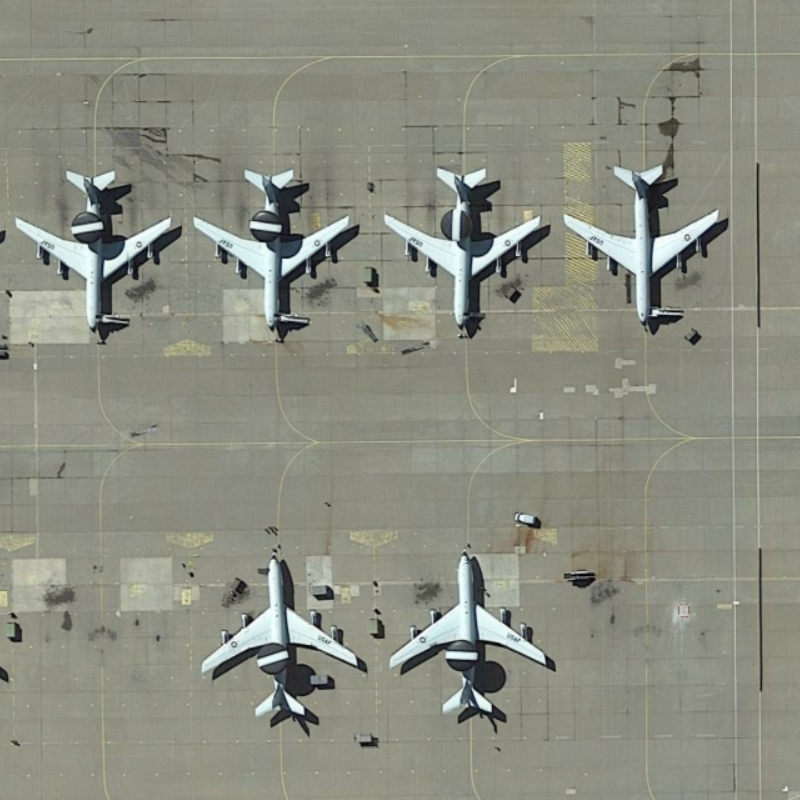A11: (561, 154, 732, 339)
A7: (384, 545, 555, 736), (191, 544, 365, 724), (10, 161, 184, 339), (379, 160, 550, 337), (189, 164, 355, 341)
